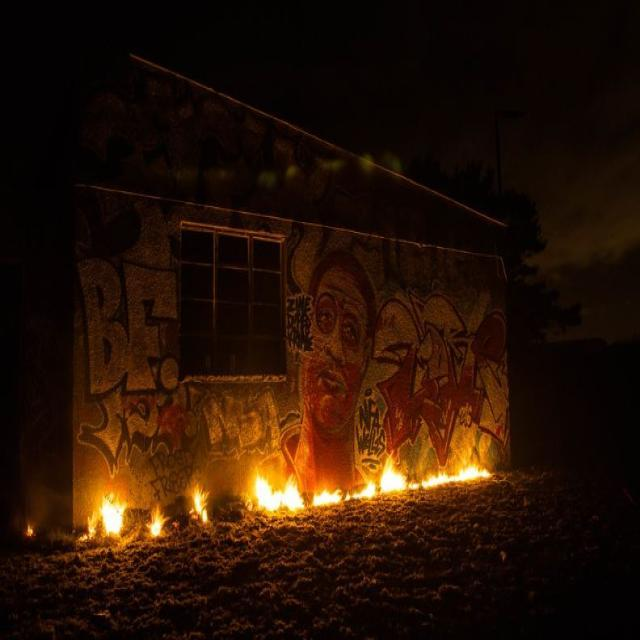Fire: (246, 439, 499, 509), (79, 482, 129, 541), (186, 474, 212, 524), (144, 498, 169, 538)
